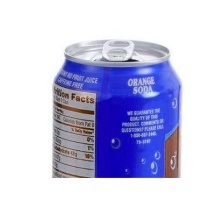can: (48, 31, 183, 179)
